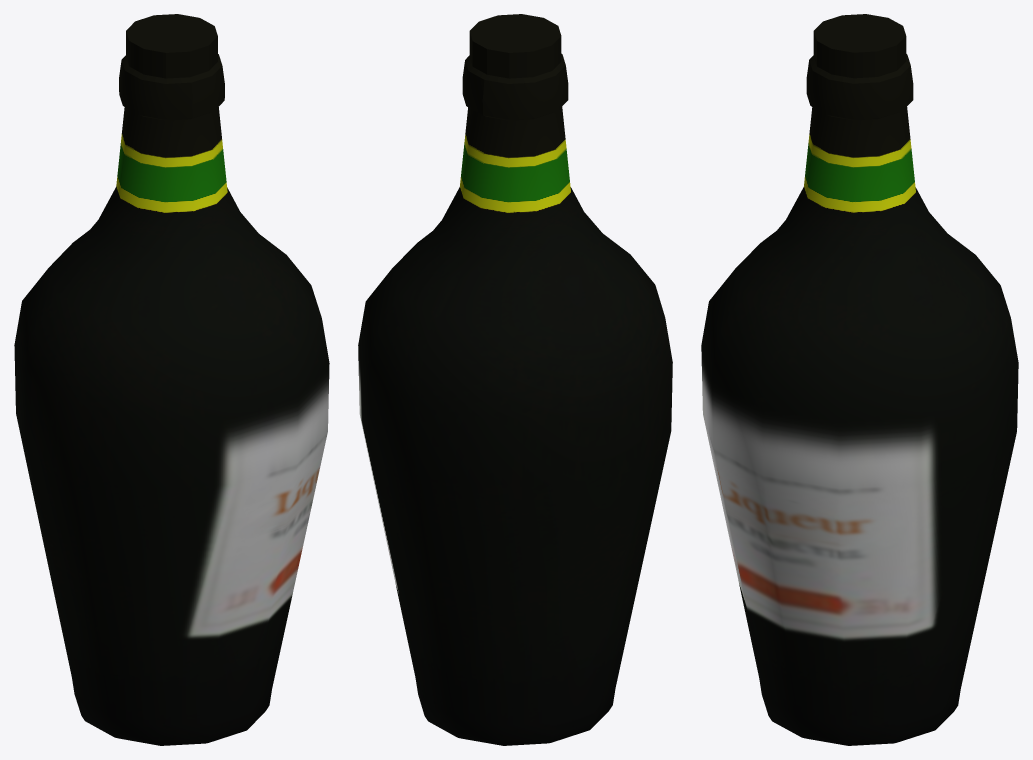
Rendered from Bottle 4.FBX.
3 views of the same model, side by side, from view 1: azimuth 30°, elevation 25°; view 2: azimuth 150°, elevation 25°; view 3: azimuth 270°, elevation 25° (orthographic).
Parts seen in each view (by area): view 1: Bottle 4; view 2: Bottle 4; view 3: Bottle 4.
Part boxes in pixels (left/top/right/bottom): Bottle 4: left=14, top=14, right=329, bottom=745; Bottle 4: left=358, top=14, right=672, bottom=745; Bottle 4: left=701, top=14, right=1018, bottom=745.
Bounding box in the file's own units: 8.64 × 20.5 × 8.72.
Materials: 1 (1 with a texture image).
